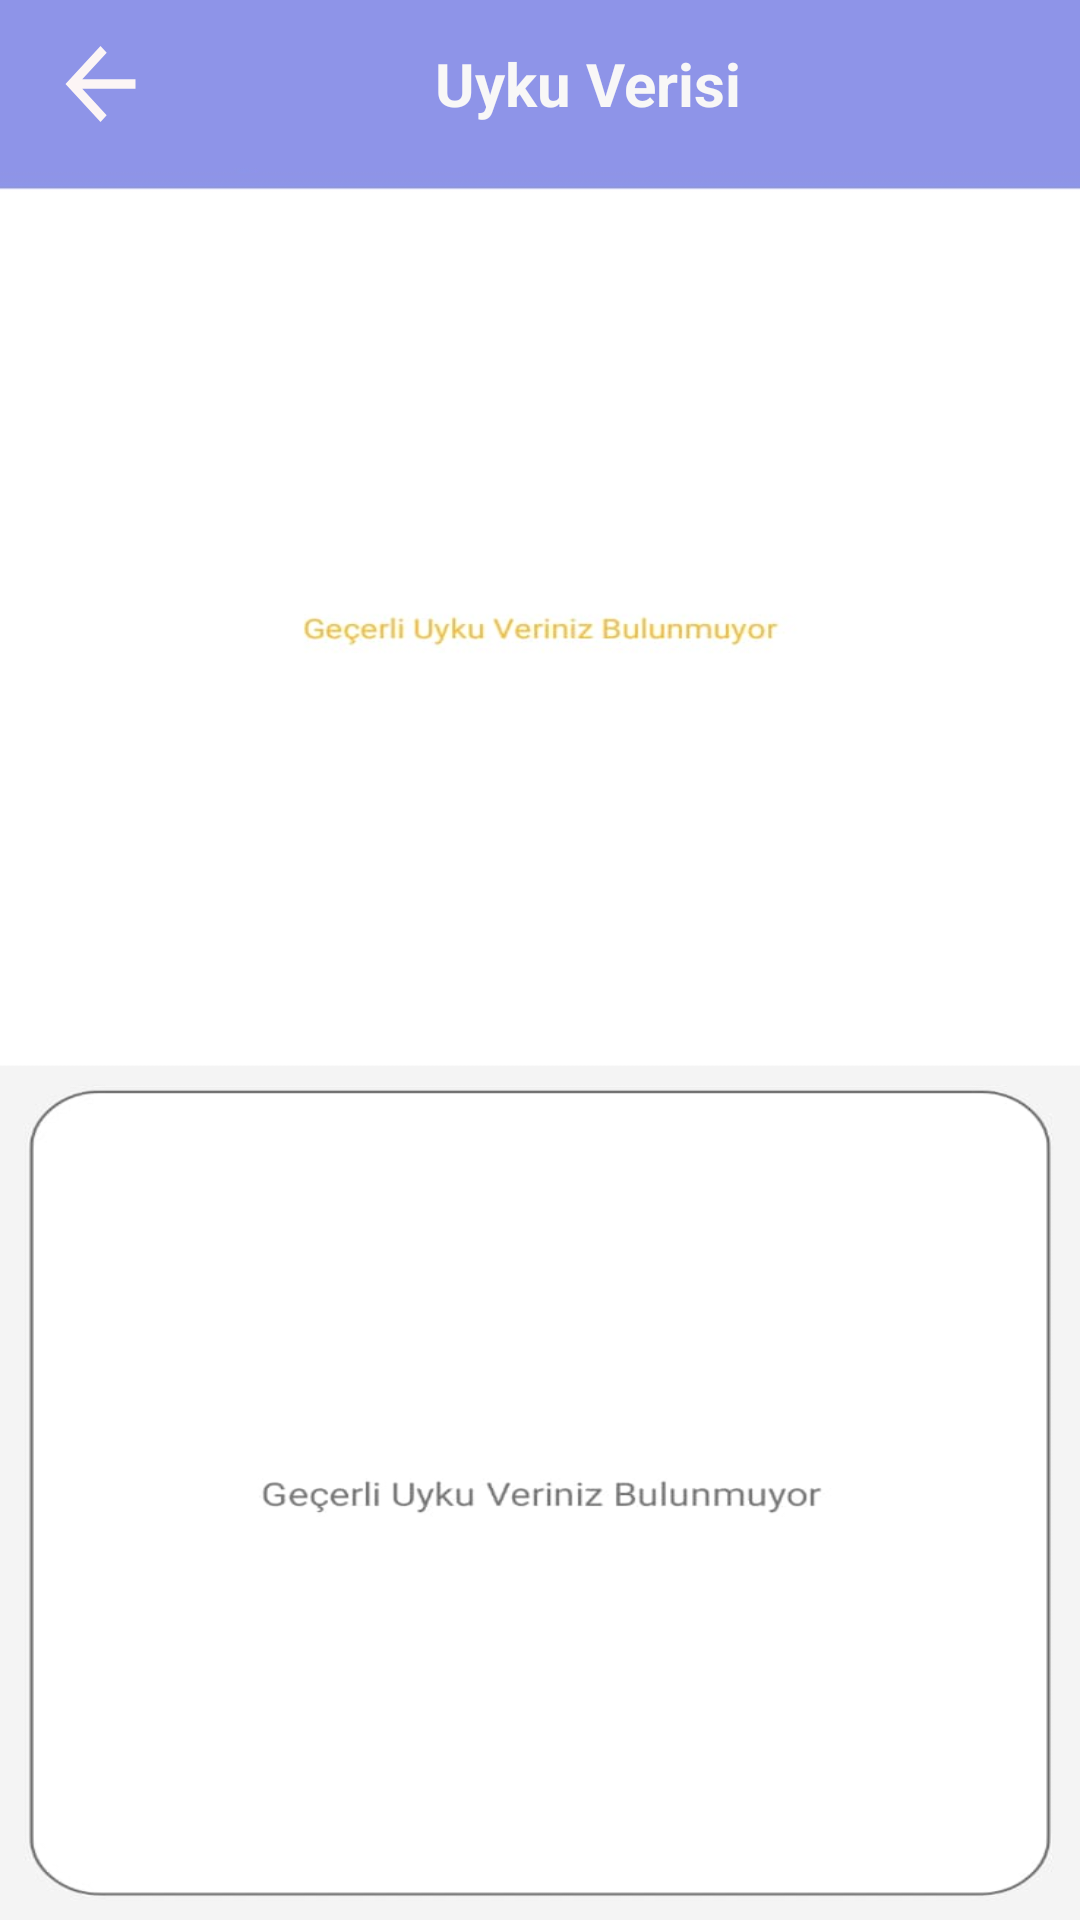

Icons on this 1080w x 1920h Android screen, each with the point to tap as [x,y]:
arrow back: [101,84]
